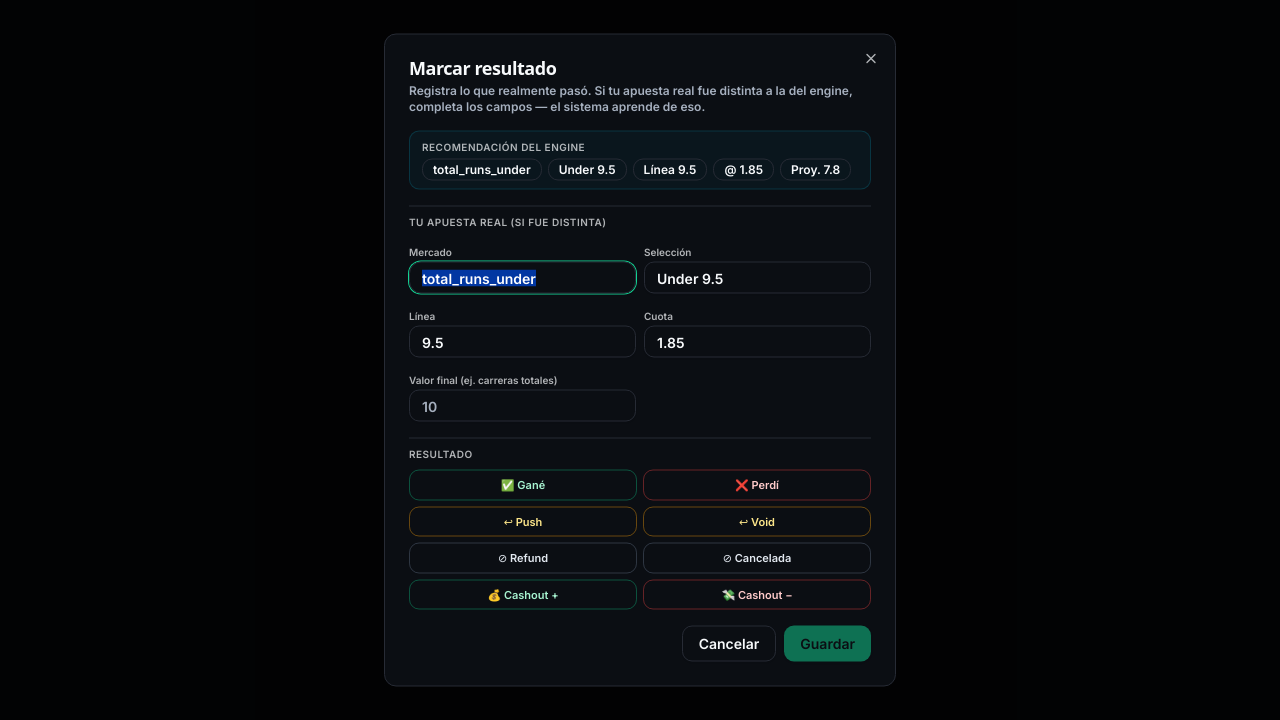
Test: MatchOutcomeModal — engine summary + actual bet form › shows line-distance chip when user line differs from engine
The image size is (1280, 720).
Step 1. Replace the text in the field with test id "outcome-modal-actual-line-m-42" with "10,0" → [522, 342], box top-left (409, 326), bottom-right (636, 358)
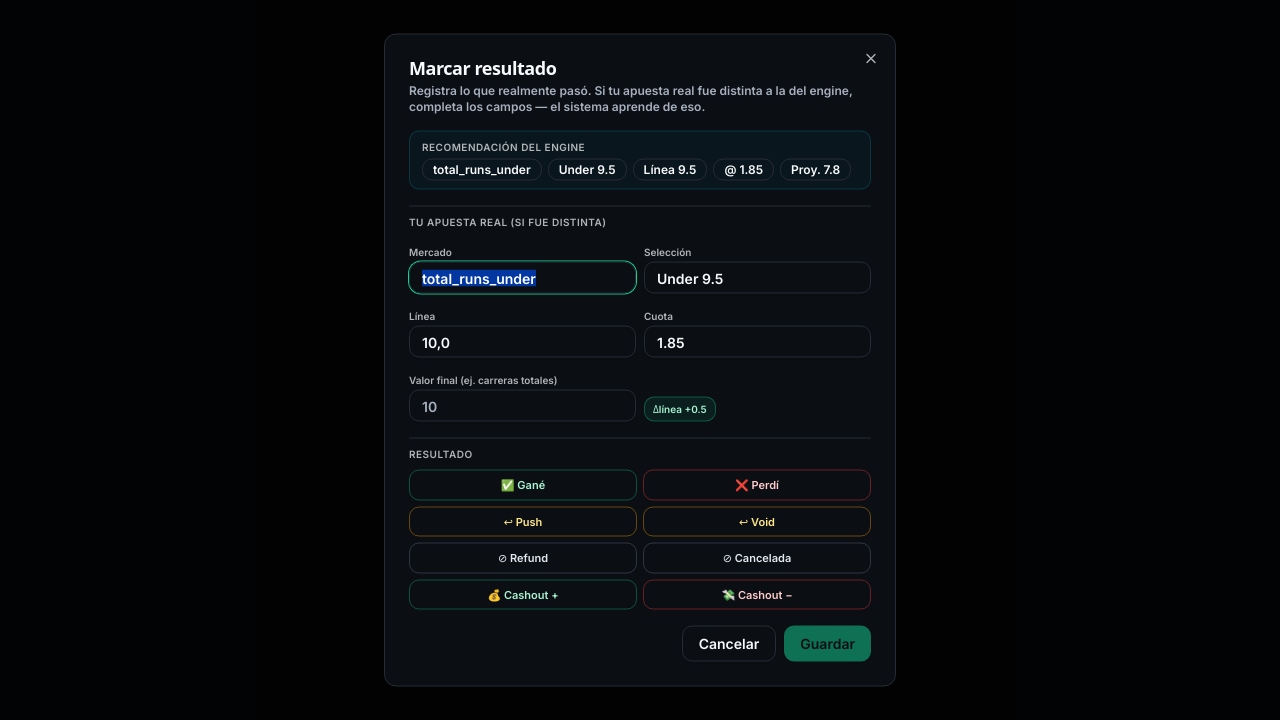
Expected: the text with test id "outcome-modal-line-distance-m-42" shows "+0.5", top-left (644, 396), bottom-right (716, 422)
